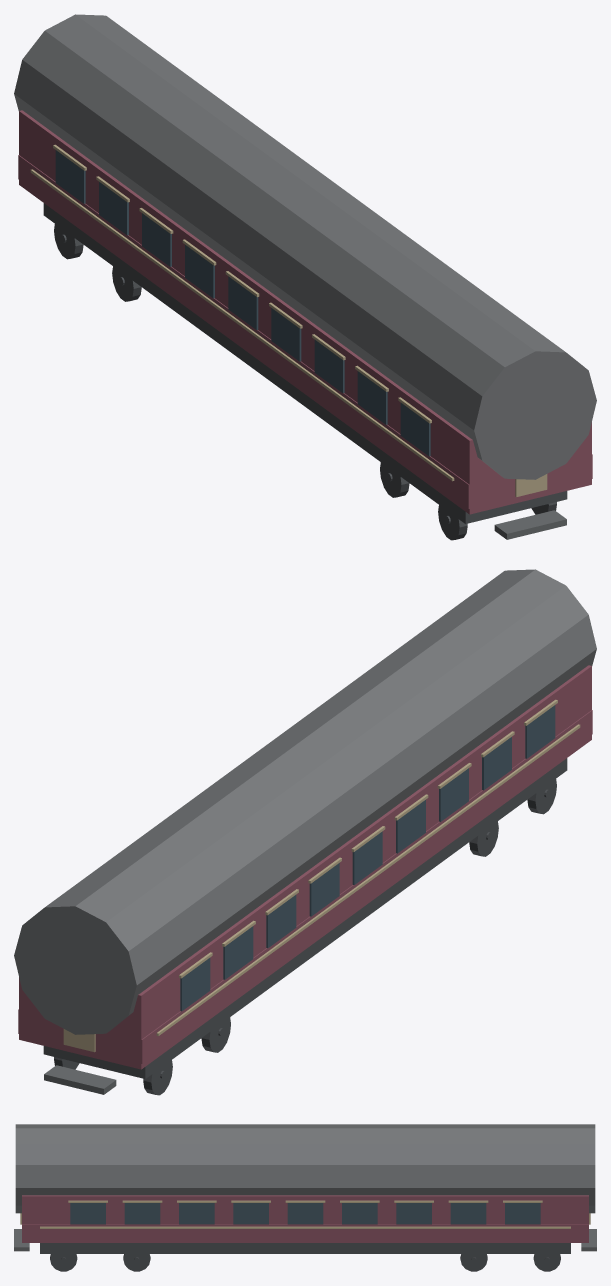
Rendered from br_mk1_maroon_coach.glb.
3 views of the same model, one above another, from view 1: azimuth 30°, elevation 25°; view 2: azimuth 150°, elevation 25°; view 3: azimuth 270°, elevation 25° (orthographic). The views are drawn at different scales.
Visible parts, largest first — view 1: coach_roof, coach_body, lower_waist, underframe, waistline_L, end_step_8.131, window_L_8, window_L_0, window_L_4, window_L_6, window_L_5, window_L_7 (+3 smaller); view 2: coach_roof, coach_body, lower_waist, underframe, waistline_L, end_step_-8.131, window_L_0, window_L_2, window_L_4, window_L_8, window_L_1, window_L_3 (+3 smaller); view 3: coach_roof, coach_body, lower_waist, underframe, waistline_R, window_R_1, window_R_4, window_R_7, window_R_0, window_R_2, window_R_3, window_R_5 (+8 smaller).
Part boxes in pixels (bbox=[...]): coach_roof: bbox=[14, 14, 596, 479]; coach_body: bbox=[19, 110, 591, 514]; lower_waist: bbox=[18, 155, 592, 508]; underframe: bbox=[43, 203, 567, 523]; waistline_L: bbox=[30, 169, 454, 481]; end_step_8.131: bbox=[494, 510, 566, 539]; window_L_8: bbox=[400, 403, 430, 456]; window_L_0: bbox=[55, 150, 85, 203]; window_L_4: bbox=[228, 276, 258, 329]; window_L_6: bbox=[314, 340, 344, 393]; window_L_5: bbox=[271, 308, 301, 361]; window_L_7: bbox=[357, 371, 387, 424]; coach_roof: bbox=[14, 569, 596, 1034]; coach_body: bbox=[19, 665, 591, 1069]; lower_waist: bbox=[18, 710, 592, 1063]; underframe: bbox=[43, 758, 567, 1078]; waistline_L: bbox=[156, 724, 580, 1036]; end_step_-8.131: bbox=[44, 1065, 116, 1094]; window_L_0: bbox=[180, 958, 210, 1011]; window_L_2: bbox=[266, 895, 296, 948]; window_L_4: bbox=[352, 831, 382, 884]; window_L_8: bbox=[525, 705, 555, 758]; window_L_1: bbox=[223, 926, 253, 979]; window_L_3: bbox=[309, 863, 339, 916]; coach_roof: bbox=[15, 1124, 595, 1213]; coach_body: bbox=[22, 1195, 588, 1242]; lower_waist: bbox=[22, 1224, 588, 1239]; underframe: bbox=[40, 1243, 570, 1253]; waistline_R: bbox=[40, 1226, 570, 1228]; window_R_1: bbox=[450, 1203, 486, 1224]; window_R_4: bbox=[287, 1203, 323, 1224]; window_R_7: bbox=[124, 1203, 160, 1224]; window_R_0: bbox=[505, 1203, 540, 1224]; window_R_2: bbox=[396, 1203, 431, 1224]; window_R_3: bbox=[342, 1203, 377, 1224]; window_R_5: bbox=[233, 1203, 268, 1224].
Size of the model in its own units: 2.67 by 4.05 by 16.71.
